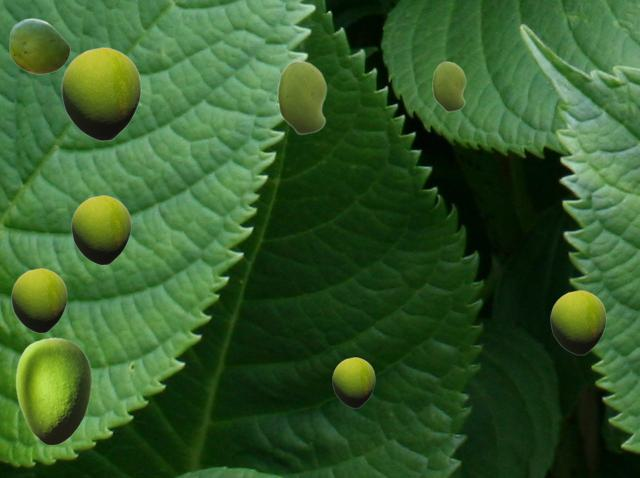green_mango: (15, 337, 91, 444), (61, 47, 140, 140), (71, 195, 130, 264), (277, 60, 326, 134), (11, 268, 66, 332), (550, 290, 605, 354), (9, 18, 69, 73), (332, 357, 374, 407), (432, 61, 465, 111)
